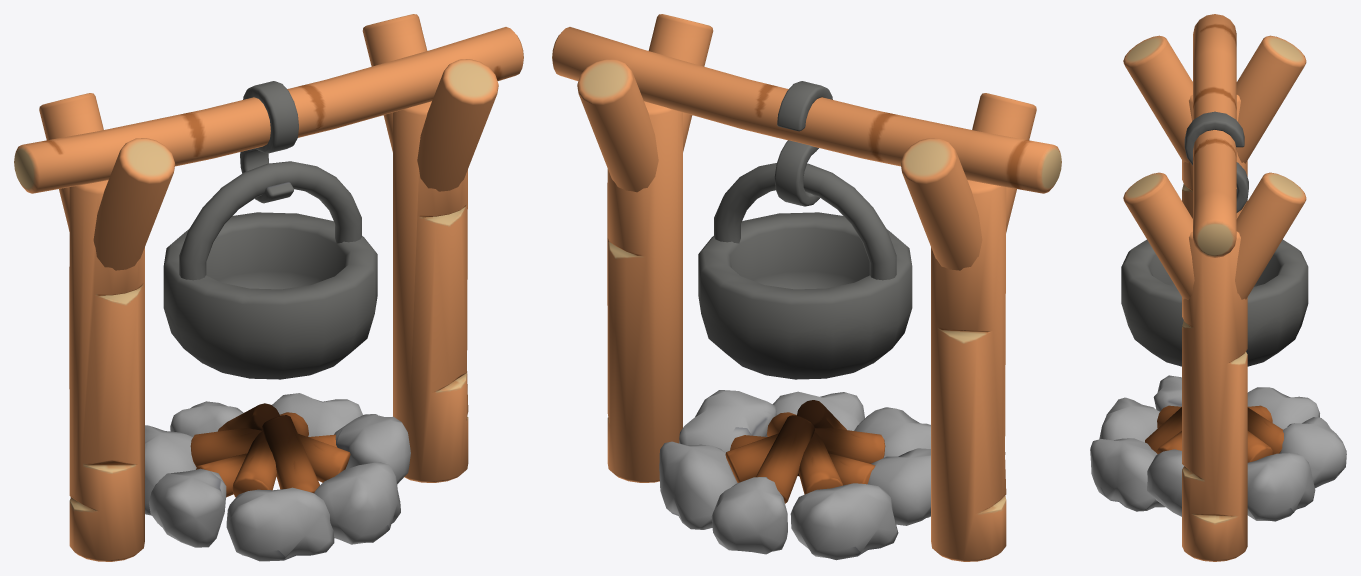
Rendered from campfire.fbx.
3 renders of one model, left to right at view 1: azimuth 30°, elevation 25°; view 2: azimuth 150°, elevation 25°; view 3: azimuth 270°, elevation 25°, orthographic. The views are drawn at different scales.
Parts seen in each view (by area): view 1: campfire, saucepan; view 2: campfire, saucepan; view 3: campfire, saucepan.
Boxes of the visible parts, x1,y1,x2,y2 form: campfire: (14, 14, 523, 561); saucepan: (163, 161, 377, 379); campfire: (552, 14, 1061, 561); saucepan: (698, 163, 912, 379); campfire: (1090, 14, 1346, 561); saucepan: (1121, 239, 1308, 366).
Size of the model in its own units: 264 by 223 by 138.
2 materials, 2 textured.
